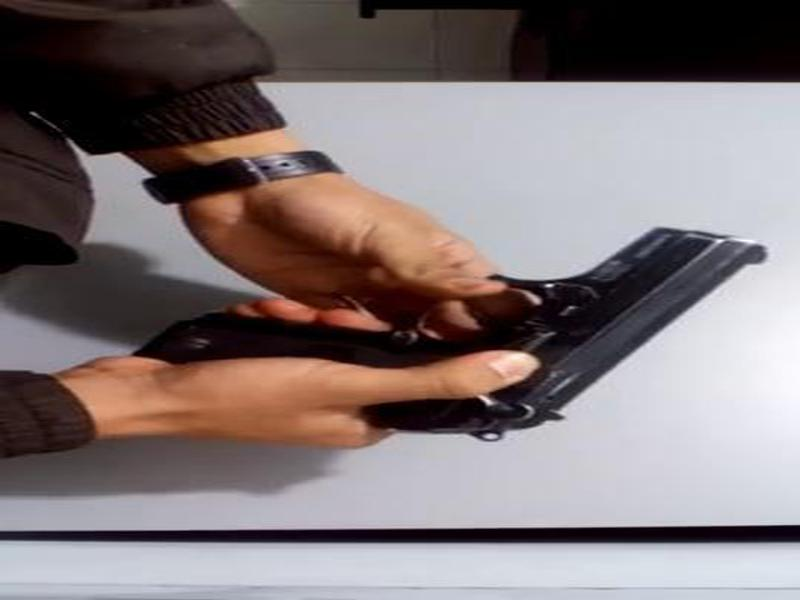Pistola: (134, 197, 774, 450)
